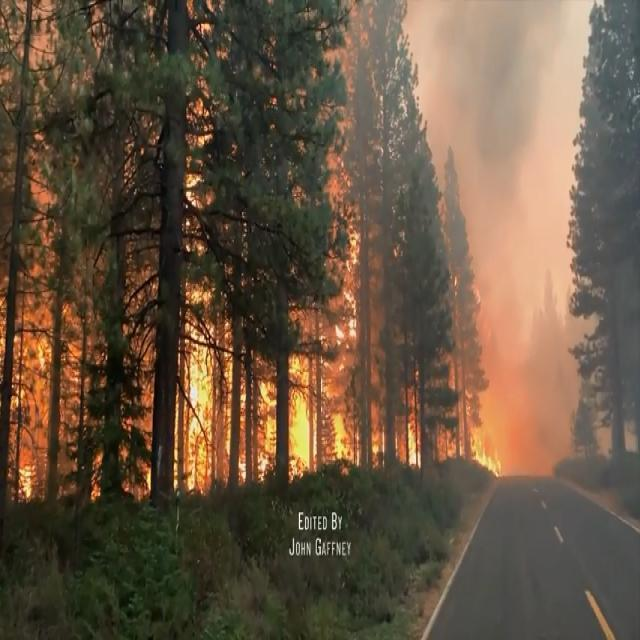Fire: (177, 255, 503, 485)
